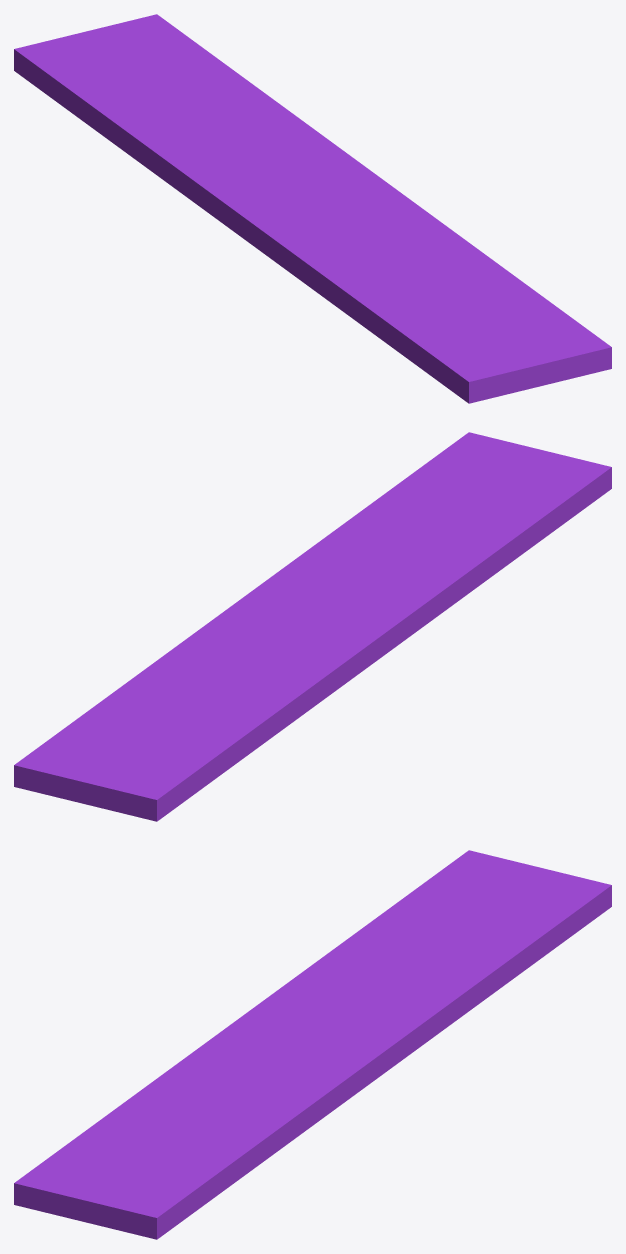
Rendered from StairsStep_58_chunks.fbx.
The picture shows the model from 3 angles, top to bottom: view 1: azimuth 30°, elevation 25°; view 2: azimuth 150°, elevation 25°; view 3: azimuth 330°, elevation 25°; orthographic projection.
Parts seen in each view (by area): view 1: StairsStep_58_3, StairsStep_58_8, StairsStep_58_6, StairsStep_58_9, StairsStep_58_2, StairsStep_58_4, StairsStep_58_1, StairsStep_58_0, StairsStep_58_5; view 2: StairsStep_58_3, StairsStep_58_8, StairsStep_58_6, StairsStep_58_9, StairsStep_58_2, StairsStep_58_4, StairsStep_58_1, StairsStep_58_0, StairsStep_58_5; view 3: StairsStep_58_3, StairsStep_58_8, StairsStep_58_9, StairsStep_58_6, StairsStep_58_4, StairsStep_58_2, StairsStep_58_1, StairsStep_58_0, StairsStep_58_5.
Part boxes in pixels (bbox=[...]): StairsStep_58_3: bbox=[14, 14, 267, 155]; StairsStep_58_8: bbox=[410, 237, 611, 396]; StairsStep_58_6: bbox=[311, 259, 503, 403]; StairsStep_58_9: bbox=[305, 186, 460, 263]; StairsStep_58_2: bbox=[130, 134, 320, 204]; StairsStep_58_4: bbox=[233, 95, 357, 195]; StairsStep_58_1: bbox=[197, 191, 328, 300]; StairsStep_58_0: bbox=[337, 161, 391, 189]; StairsStep_58_5: bbox=[185, 125, 249, 149]; StairsStep_58_3: bbox=[14, 682, 275, 821]; StairsStep_58_8: bbox=[318, 432, 576, 547]; StairsStep_58_6: bbox=[400, 458, 611, 590]; StairsStep_58_9: bbox=[249, 542, 438, 617]; StairsStep_58_2: bbox=[245, 614, 350, 735]; StairsStep_58_4: bbox=[125, 611, 302, 683]; StairsStep_58_1: bbox=[323, 582, 471, 687]; StairsStep_58_0: bbox=[215, 593, 283, 617]; StairsStep_58_5: bbox=[204, 663, 246, 694]; StairsStep_58_3: bbox=[350, 850, 611, 986]; StairsStep_58_8: bbox=[41, 1102, 308, 1239]; StairsStep_58_9: bbox=[187, 1032, 376, 1128]; StairsStep_58_6: bbox=[14, 1064, 225, 1211]; StairsStep_58_4: bbox=[323, 966, 501, 1038]; StairsStep_58_2: bbox=[275, 937, 380, 1035]; StairsStep_58_1: bbox=[172, 992, 302, 1067]; StairsStep_58_0: bbox=[342, 1032, 433, 1090]; StairsStep_58_5: bbox=[379, 955, 421, 986].
Size of the model in its own units: 200 by 28.98 by 1102.
